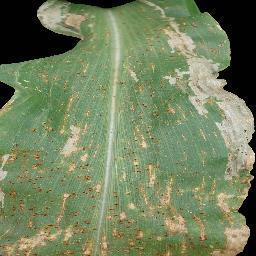Corn_Common_Rust: (115, 0, 256, 251), (0, 81, 112, 256), (32, 0, 92, 42), (16, 53, 92, 78)
